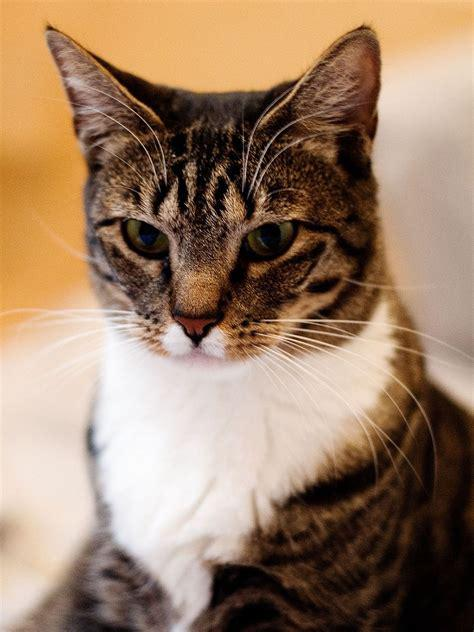cat: (45, 24, 472, 632)
